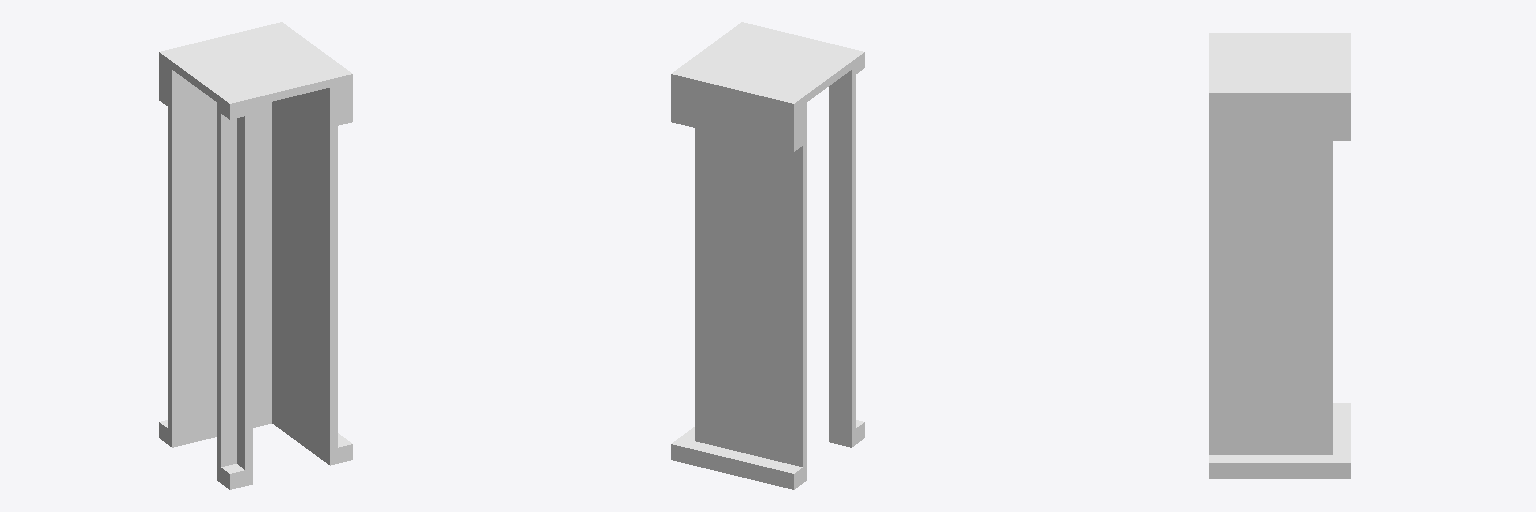
File: Corner_A.obj
3 renders of one model, left to right at view 1: azimuth 30°, elevation 25°; view 2: azimuth 150°, elevation 25°; view 3: azimuth 270°, elevation 25°, orthographic.
Parts seen in each view (by area): view 1: object 1; view 2: object 1; view 3: object 1.
Boxes of the visible parts, <box> form: object 1: <box>159,22,352,489</box>; object 1: <box>671,22,864,489</box>; object 1: <box>1209,33,1350,478</box>.
Bounding box in the file's own units: 1.6 × 4.8 × 1.6.